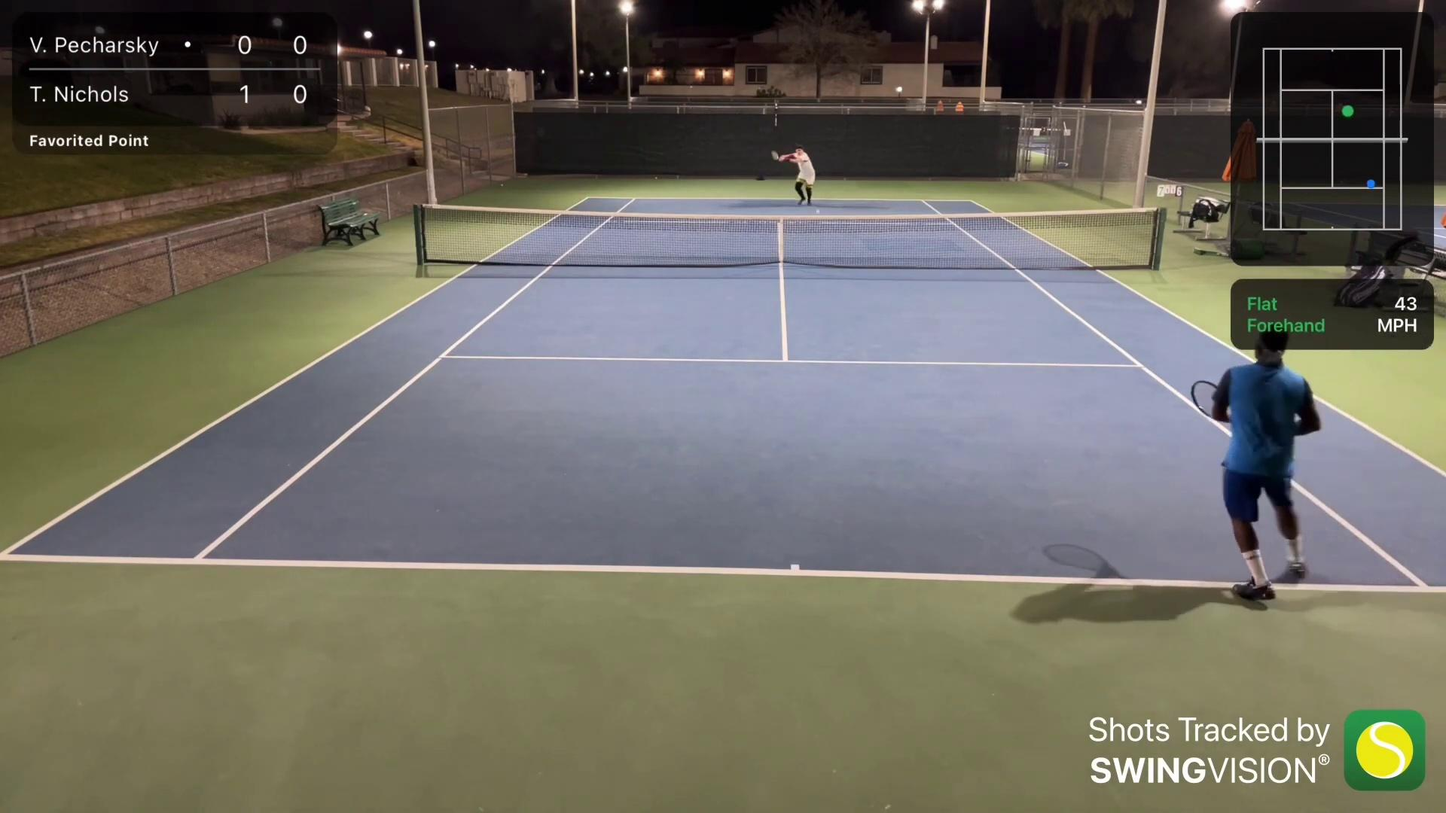ball: (813, 207, 823, 214), (498, 181, 505, 187), (654, 175, 659, 182)
